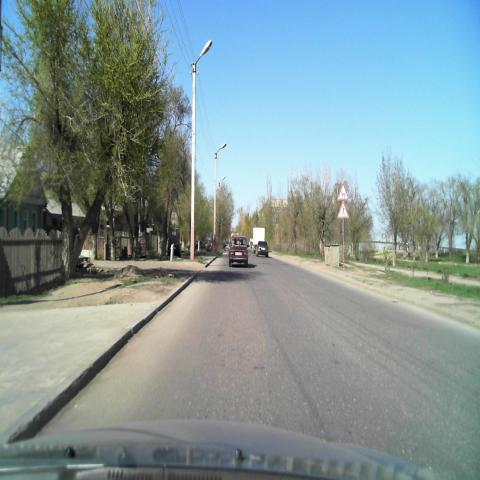1_12_2: (337, 182, 348, 201)
